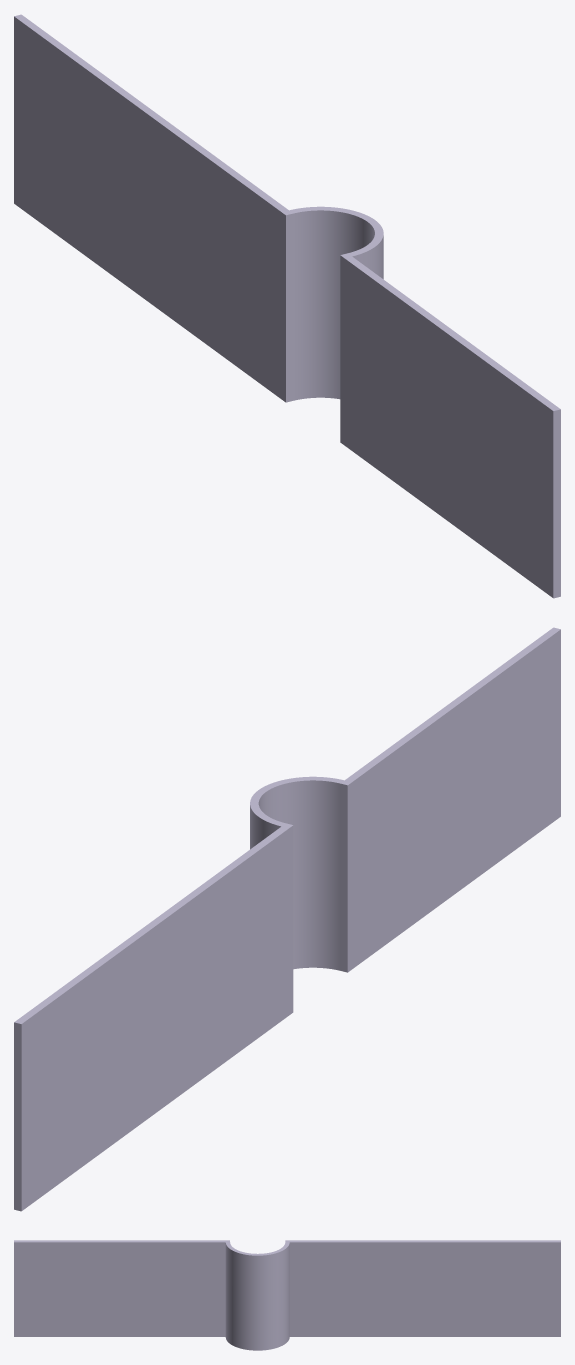
The model's file is spared-02.gltf.
The picture shows the model from 3 angles, top to bottom: view 1: azimuth 30°, elevation 25°; view 2: azimuth 150°, elevation 25°; view 3: azimuth 270°, elevation 25°; orthographic projection. The views are drawn at different scales.
Visible parts, largest first — view 1: Object_7.002; view 2: Object_7.002; view 3: Object_7.002.
Boxes of the visible parts, x1,y1,x2,y2 form: Object_7.002: (14,14,560,598); Object_7.002: (14,627,560,1211); Object_7.002: (14,1240,560,1350).
Bounding box in the file's own units: 1.32 × 3.8 × 19.84.
